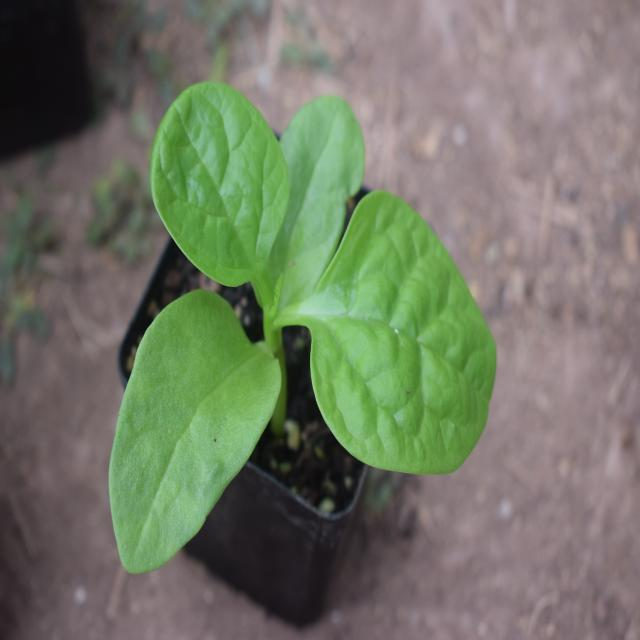Ceylon spinach: (75, 110, 543, 505)
